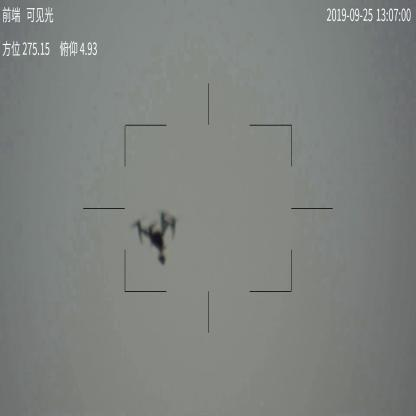uav: (131, 209, 177, 264)
